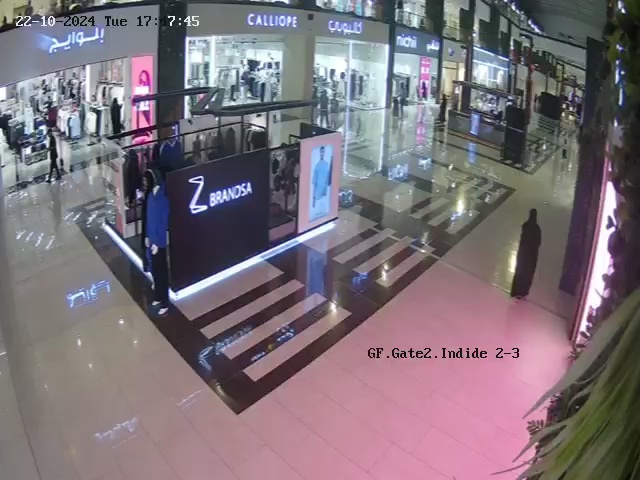female: (508, 194, 546, 309), (436, 82, 453, 133), (109, 92, 126, 135)
male: (45, 127, 62, 183)
other: (144, 165, 172, 325)
